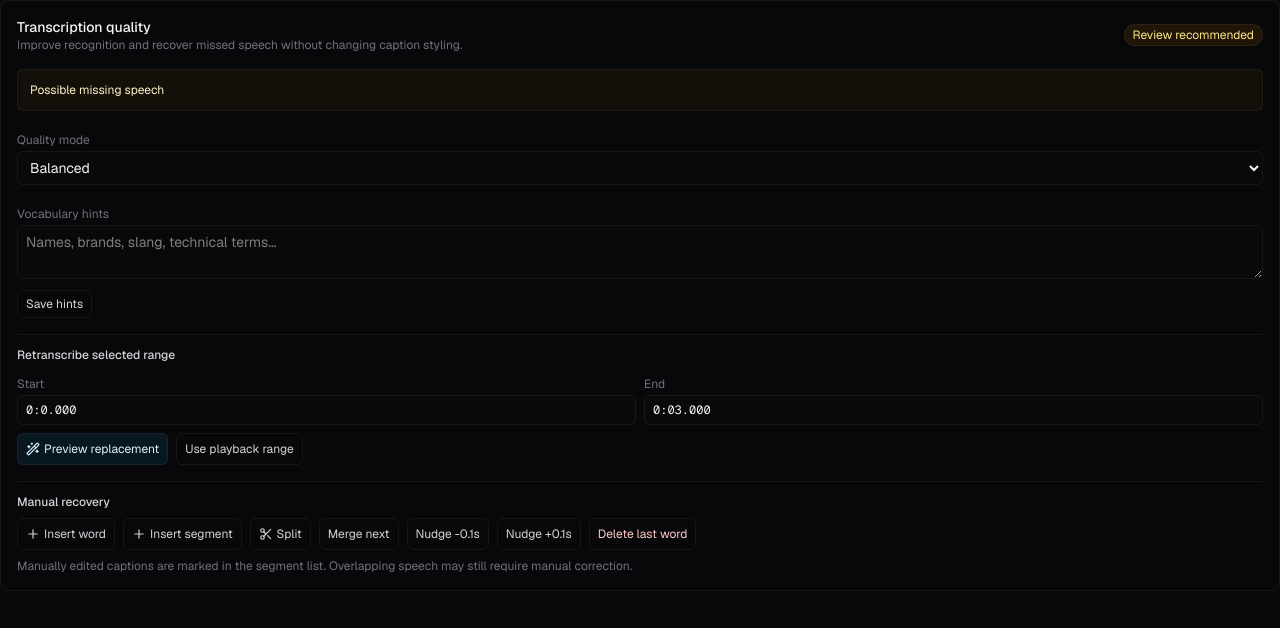
Test: TranscriptionRecoveryPanel › shows high accuracy warning when selected
Select "High Accuracy" in the dropdown at (640, 168), box [17,151,1263,185]
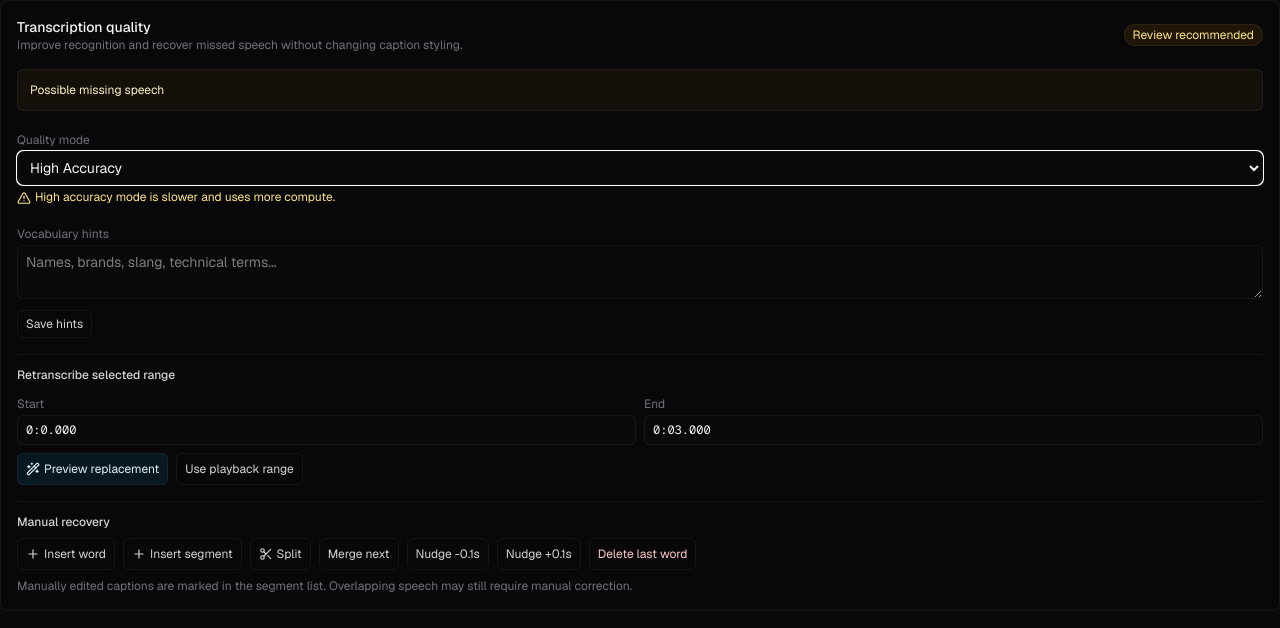
Check: the text "High accuracy mode is slower and uses more compute." is shown, box [17,189,335,205]
